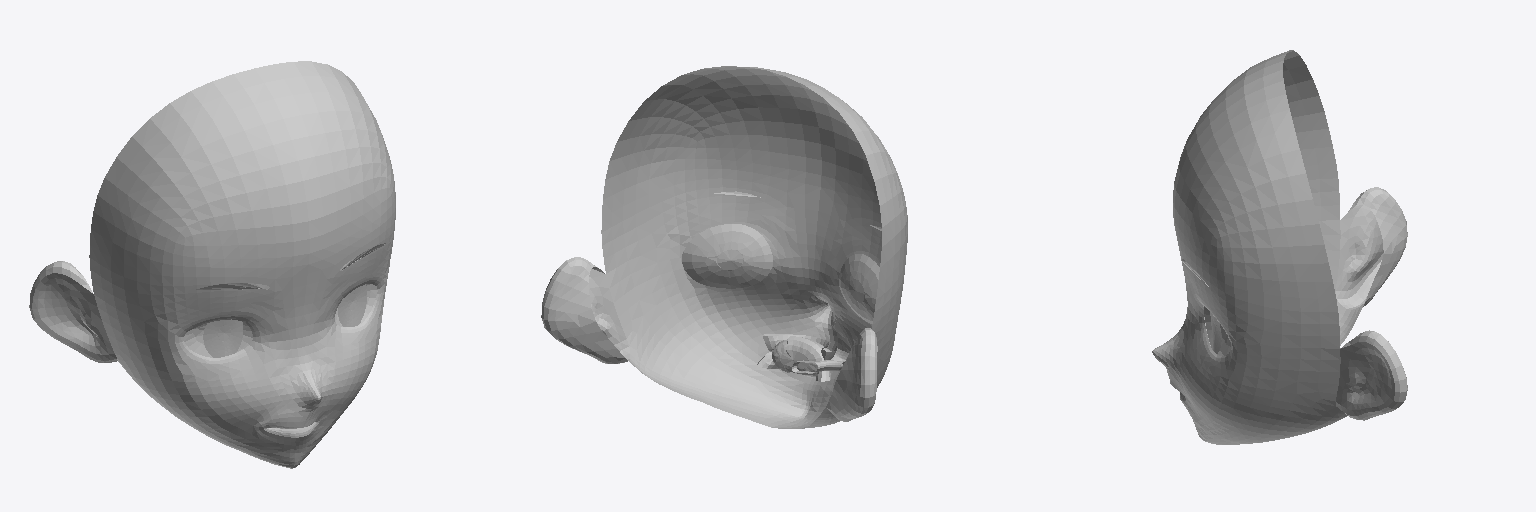
The model's file is mouthRight.obj.
The picture shows the model from 3 angles: view 1: azimuth 30°, elevation 25°; view 2: azimuth 150°, elevation 25°; view 3: azimuth 270°, elevation 25°; orthographic projection.
Parts seen in each view (by area): view 1: Face; view 2: Face; view 3: Face.
Part boxes in pixels (left/top/right/bottom): Face: left=29, top=61, right=395, bottom=468; Face: left=541, top=66, right=907, bottom=428; Face: left=1152, top=50, right=1407, bottom=444.
Size of the model in its own units: 0.2176 by 0.2333 by 0.1449.